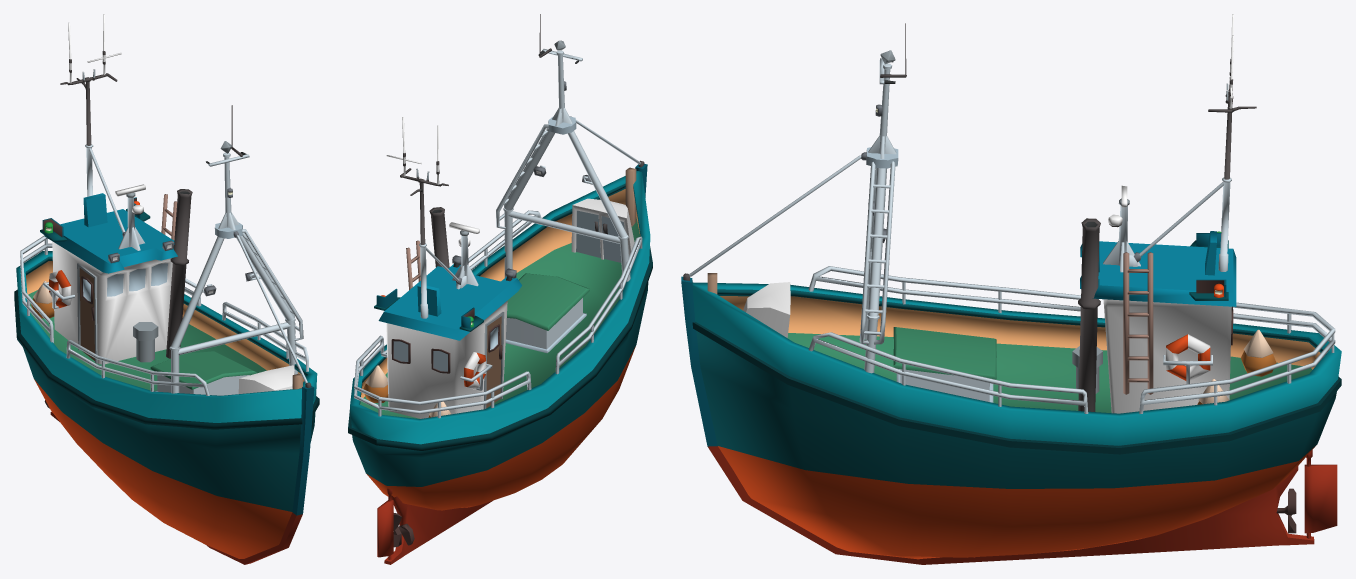
Rendered from ship.fbx.
The picture shows the model from 3 angles, left to right: view 1: azimuth 30°, elevation 25°; view 2: azimuth 150°, elevation 25°; view 3: azimuth 270°, elevation 25°; orthographic projection. The views are drawn at different scales.
Parts seen in each view (by area): view 1: FB Medium Hull; view 2: FB Medium Hull; view 3: FB Medium Hull.
Part boxes in pixels (x1,y1,x2,y2): FB Medium Hull: (14, 14, 319, 564); FB Medium Hull: (348, 14, 652, 564); FB Medium Hull: (681, 14, 1341, 564).
Bounding box in the file's own units: 2.29 × 5.67 × 6.21.
Materials: 2 (2 with a texture image).
